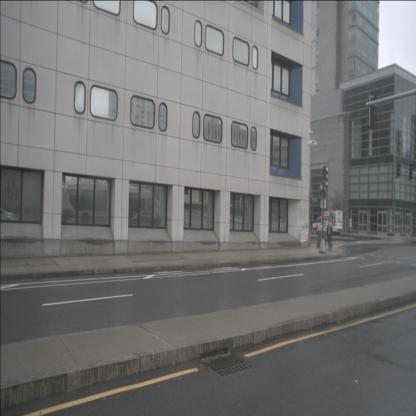human-pedestrian-adult: (326, 220, 333, 252)
vehicle-bus-rigid: (53, 180, 155, 235)
vehicle-car: (132, 209, 161, 231), (0, 206, 17, 229)
vehicle-truck: (0, 162, 75, 232), (311, 210, 343, 235)
